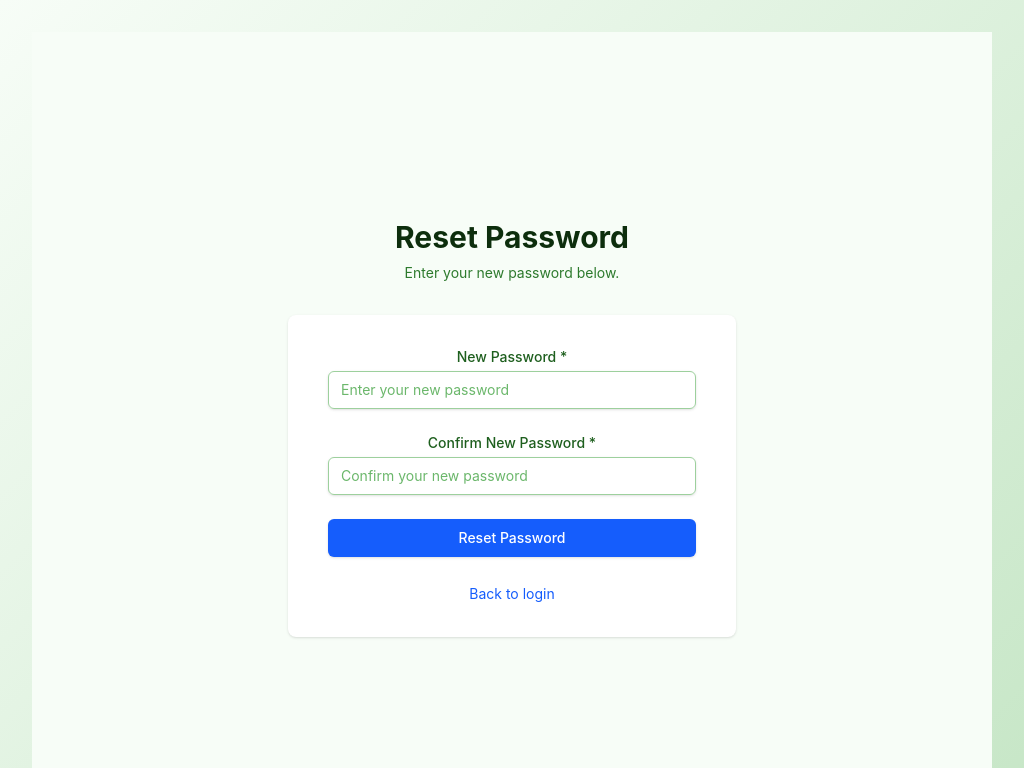
Test: Password Reset Integration › should handle reset password API errors gracefully
Expected: the heading "Reset Password" is shown, [395,219,629,255]
# Fill out the form with valid passwords
In the password field labelled "New Password *": (512, 390) [328,371,696,409], type "NewSecurePass456@"
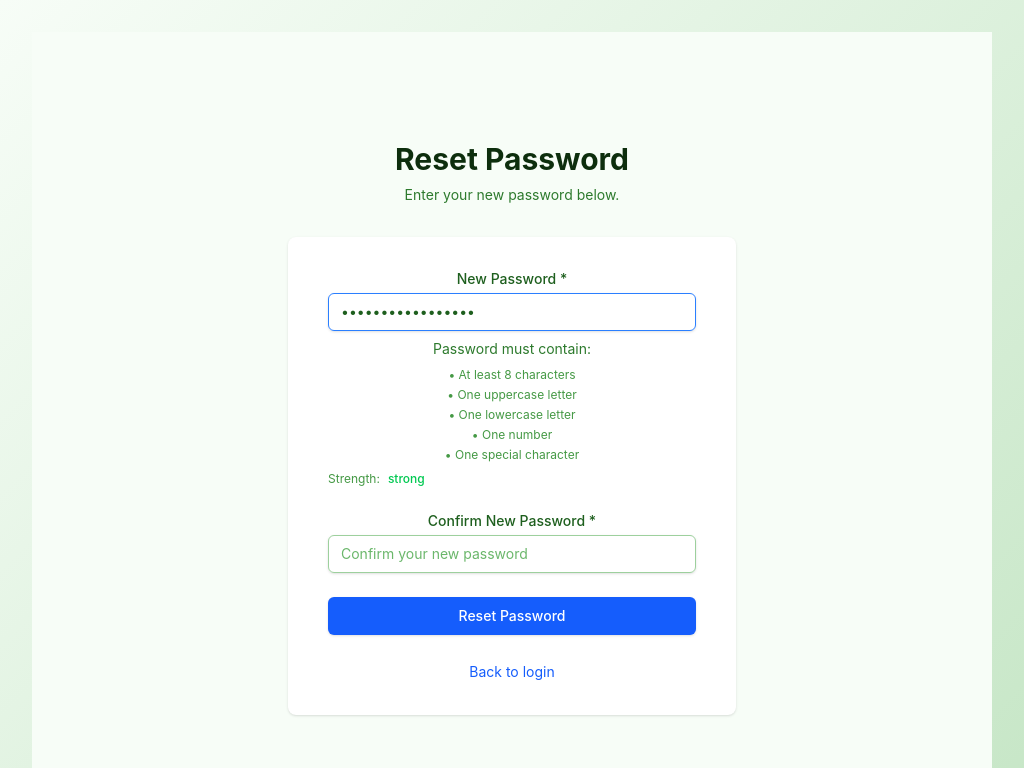
In the password field labelled "Confirm New Password *": (512, 554) [328,535,696,573], type "NewSecurePass456@"
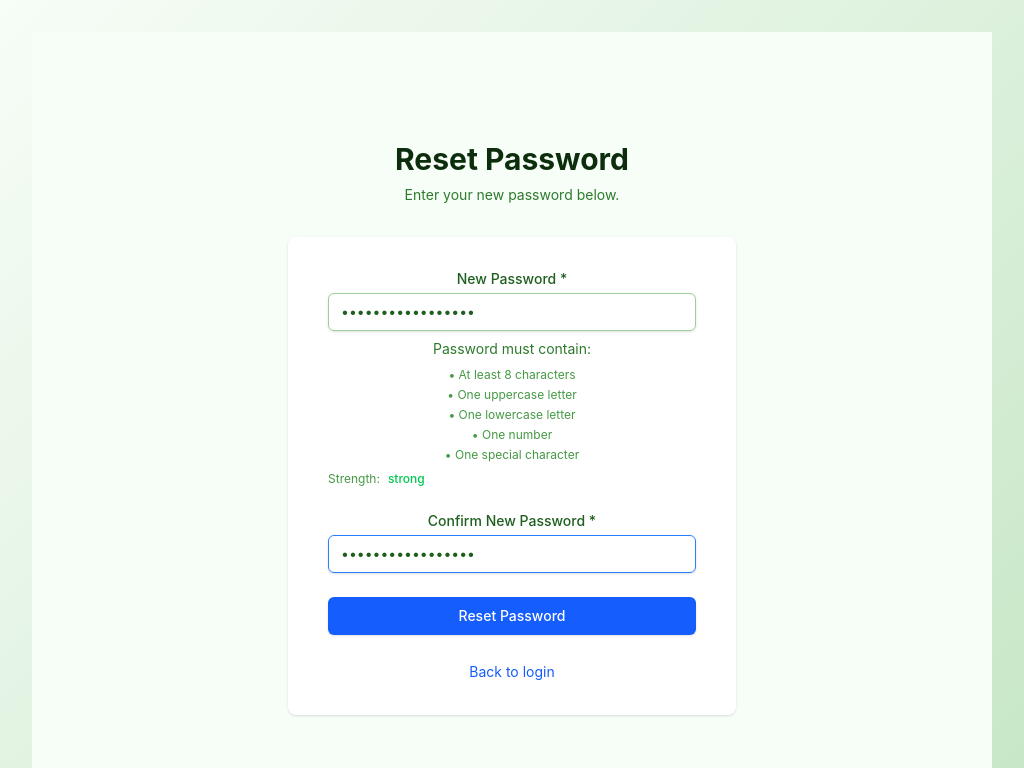
# Submit the form
Click the button "Reset Password": (512, 616) [328,597,696,635]
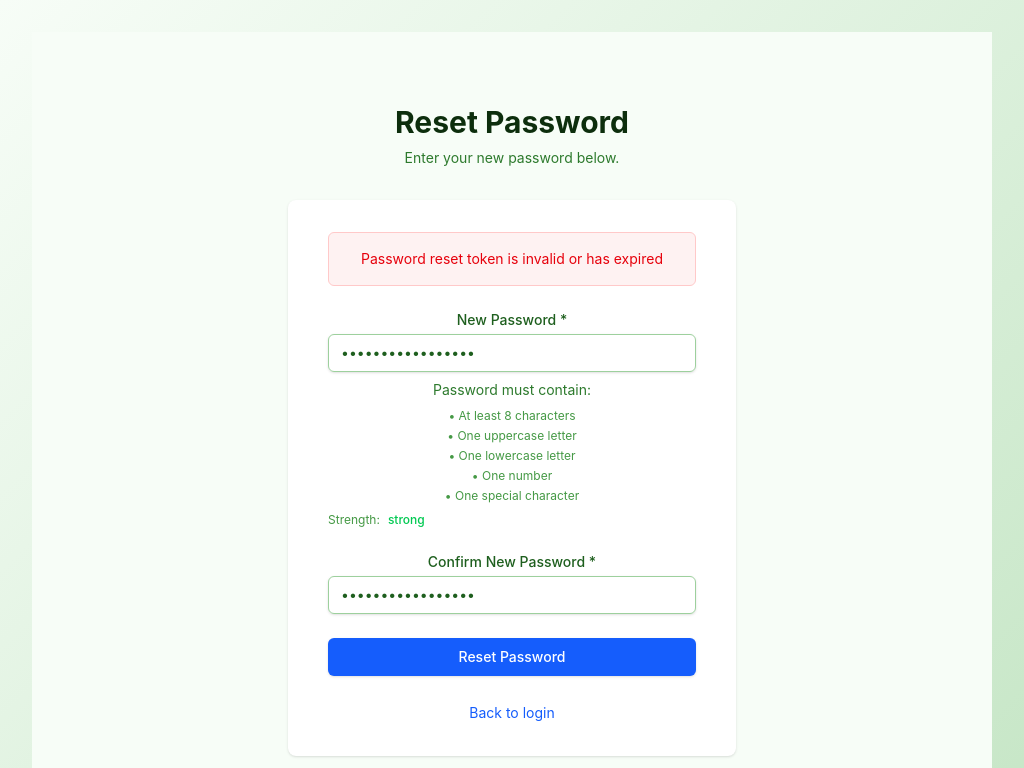
Now the text "Password reset token is invalid or has expired" is shown, box [345,249,679,269]
